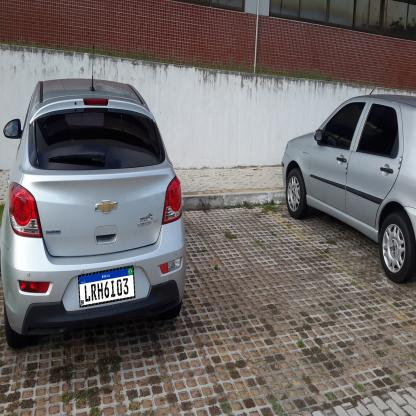PlacaM: (78, 265, 135, 308)
